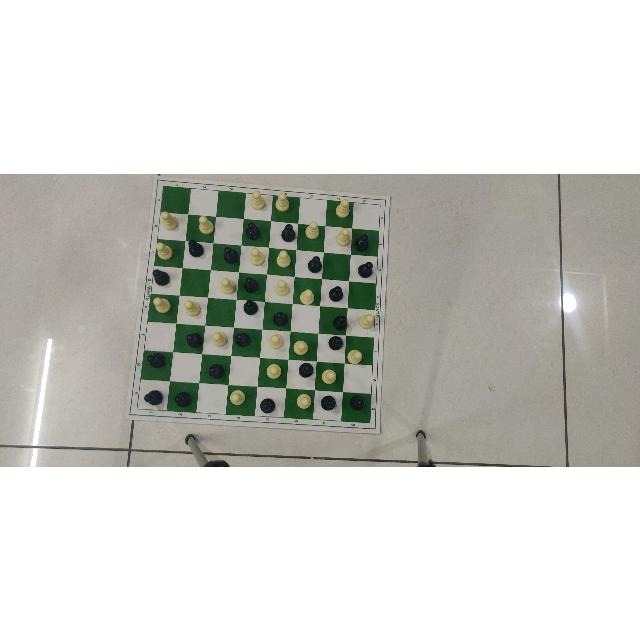black-pawn: (279, 221, 297, 243), (146, 349, 166, 368), (187, 237, 205, 258), (222, 243, 240, 264), (143, 388, 164, 406), (151, 267, 170, 286), (241, 297, 260, 315), (185, 330, 204, 348), (173, 390, 192, 408), (245, 220, 262, 240), (357, 259, 374, 279), (271, 309, 289, 327), (207, 362, 225, 380), (320, 393, 338, 411), (243, 274, 260, 293), (353, 232, 369, 252), (234, 329, 251, 347), (348, 393, 365, 410), (332, 314, 348, 332), (298, 360, 314, 377), (307, 255, 322, 273), (260, 397, 276, 413), (328, 284, 343, 301), (328, 334, 344, 349)
white-pawn: (197, 213, 214, 235), (152, 295, 171, 314), (182, 297, 201, 316), (161, 210, 179, 230), (274, 190, 290, 212), (154, 241, 173, 259), (250, 189, 266, 210), (334, 197, 350, 218), (229, 387, 246, 406), (335, 226, 351, 246), (304, 219, 320, 239), (276, 248, 292, 268), (250, 246, 266, 266), (219, 277, 236, 295), (295, 392, 312, 410), (211, 329, 228, 346), (266, 332, 283, 349), (298, 287, 315, 304), (346, 347, 363, 364), (274, 278, 290, 296), (265, 362, 282, 378), (292, 338, 308, 355), (357, 313, 374, 329), (320, 369, 337, 385)
